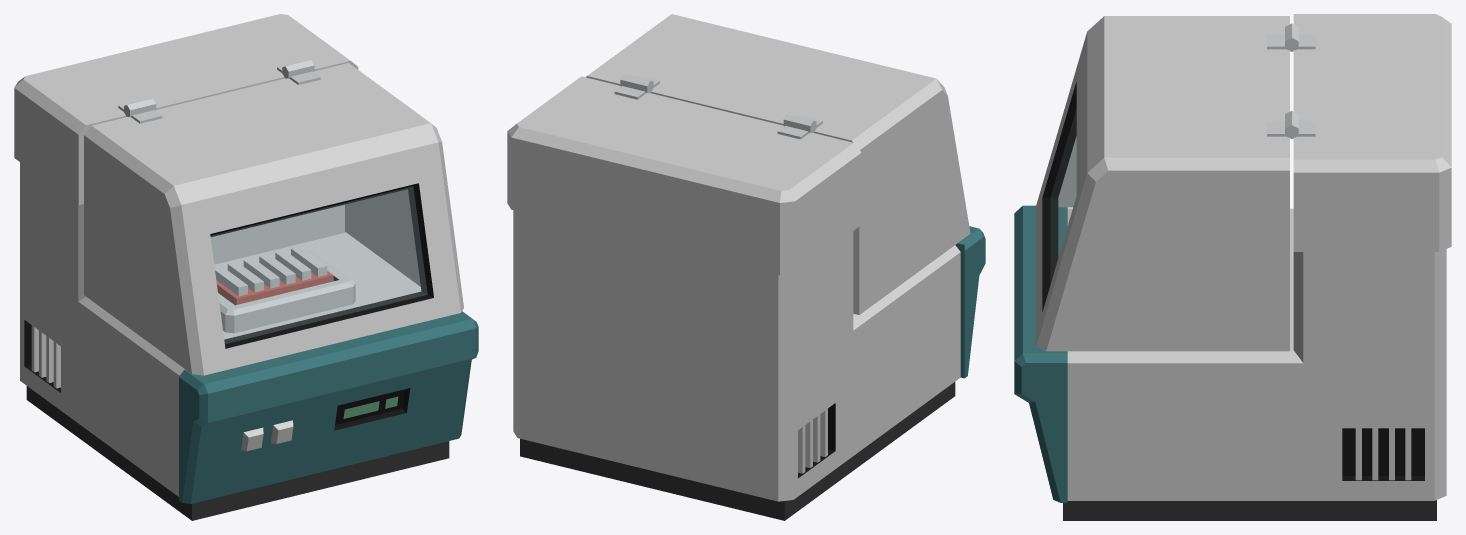
The model's file is thermocycler-514a6d.glb.
The picture shows the model from 3 angles, left to right: view 1: azimuth 30°, elevation 25°; view 2: azimuth 150°, elevation 25°; view 3: azimuth 270°, elevation 25°; orthographic projection. The views are drawn at different scales.
Parts seen in each view (by area): view 1: body, hood, window-glass, plate-set; view 2: body, hood; view 3: body, hood, window-glass.
Part boxes in pixels (<box>): body: <box>14,14,478,520</box>; hood: <box>84,63,463,375</box>; window-glass: <box>211,187,426,343</box>; plate-set: <box>214,246,333,305</box>; body: <box>507,74,985,520</box>; hood: <box>586,14,970,314</box>; body: <box>1014,14,1451,520</box>; hood: <box>1036,16,1289,351</box>; window-glass: <box>1051,113,1075,280</box>.
Bounding box in the file's own units: 0.3 × 0.3415 × 0.36.
